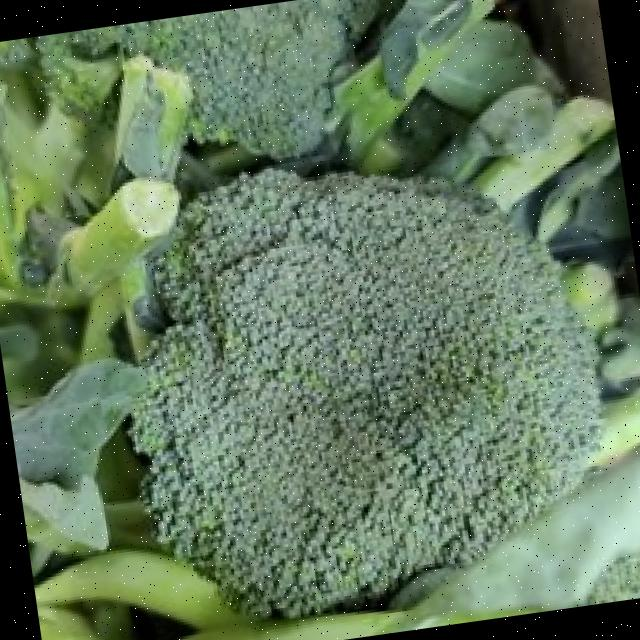Broccoli: (132, 170, 600, 618), (132, 170, 599, 618), (116, 0, 377, 158), (116, 0, 376, 158)
